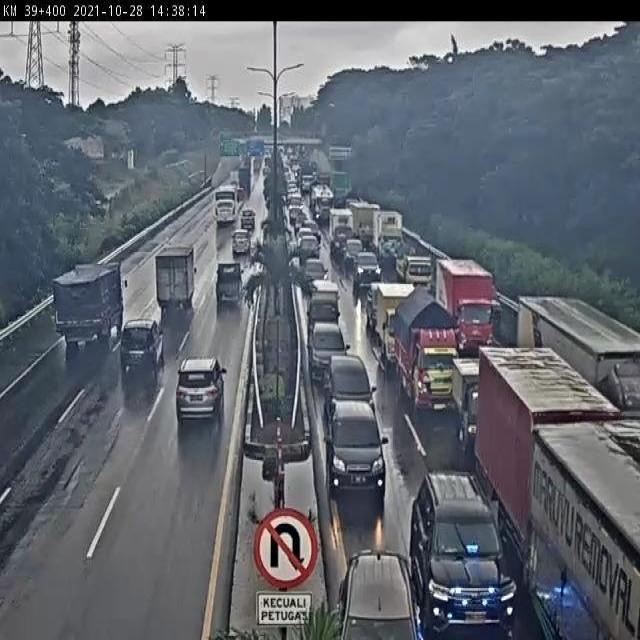Bus: (212, 183, 241, 226)
Car: (409, 474, 518, 640), (333, 549, 423, 639), (324, 398, 387, 496), (175, 353, 226, 427), (326, 353, 376, 422), (119, 318, 166, 375), (308, 320, 348, 384), (353, 250, 382, 297), (302, 257, 328, 289), (344, 238, 364, 272), (298, 233, 320, 260), (232, 228, 252, 256), (365, 292, 378, 331), (240, 208, 256, 232), (296, 227, 315, 247)
Truck: (475, 344, 623, 575), (527, 418, 640, 640), (513, 290, 640, 420), (390, 288, 459, 412), (51, 260, 129, 350), (433, 257, 498, 353), (375, 282, 422, 373), (451, 355, 487, 449), (155, 246, 195, 313), (371, 208, 405, 266), (393, 249, 434, 297), (308, 282, 342, 326), (349, 200, 381, 246), (329, 208, 356, 260), (215, 260, 245, 306), (309, 182, 335, 223), (238, 168, 251, 191), (230, 169, 240, 183), (253, 158, 261, 174)
